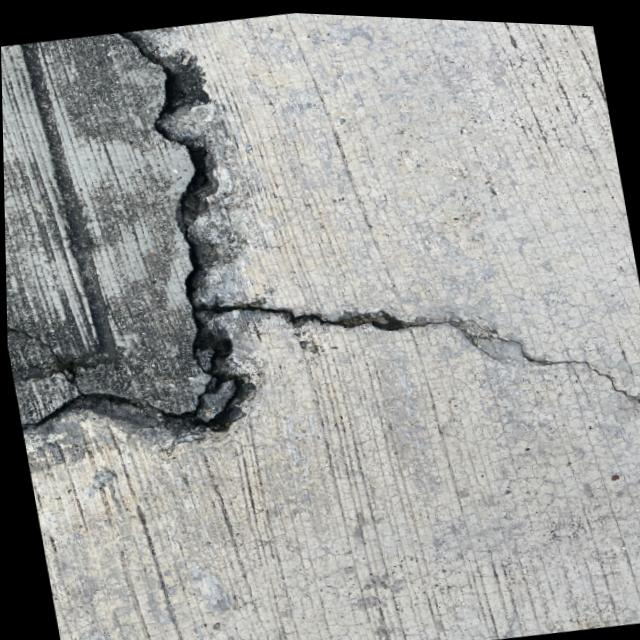Crack: (0, 14, 296, 468), (268, 188, 640, 462)
